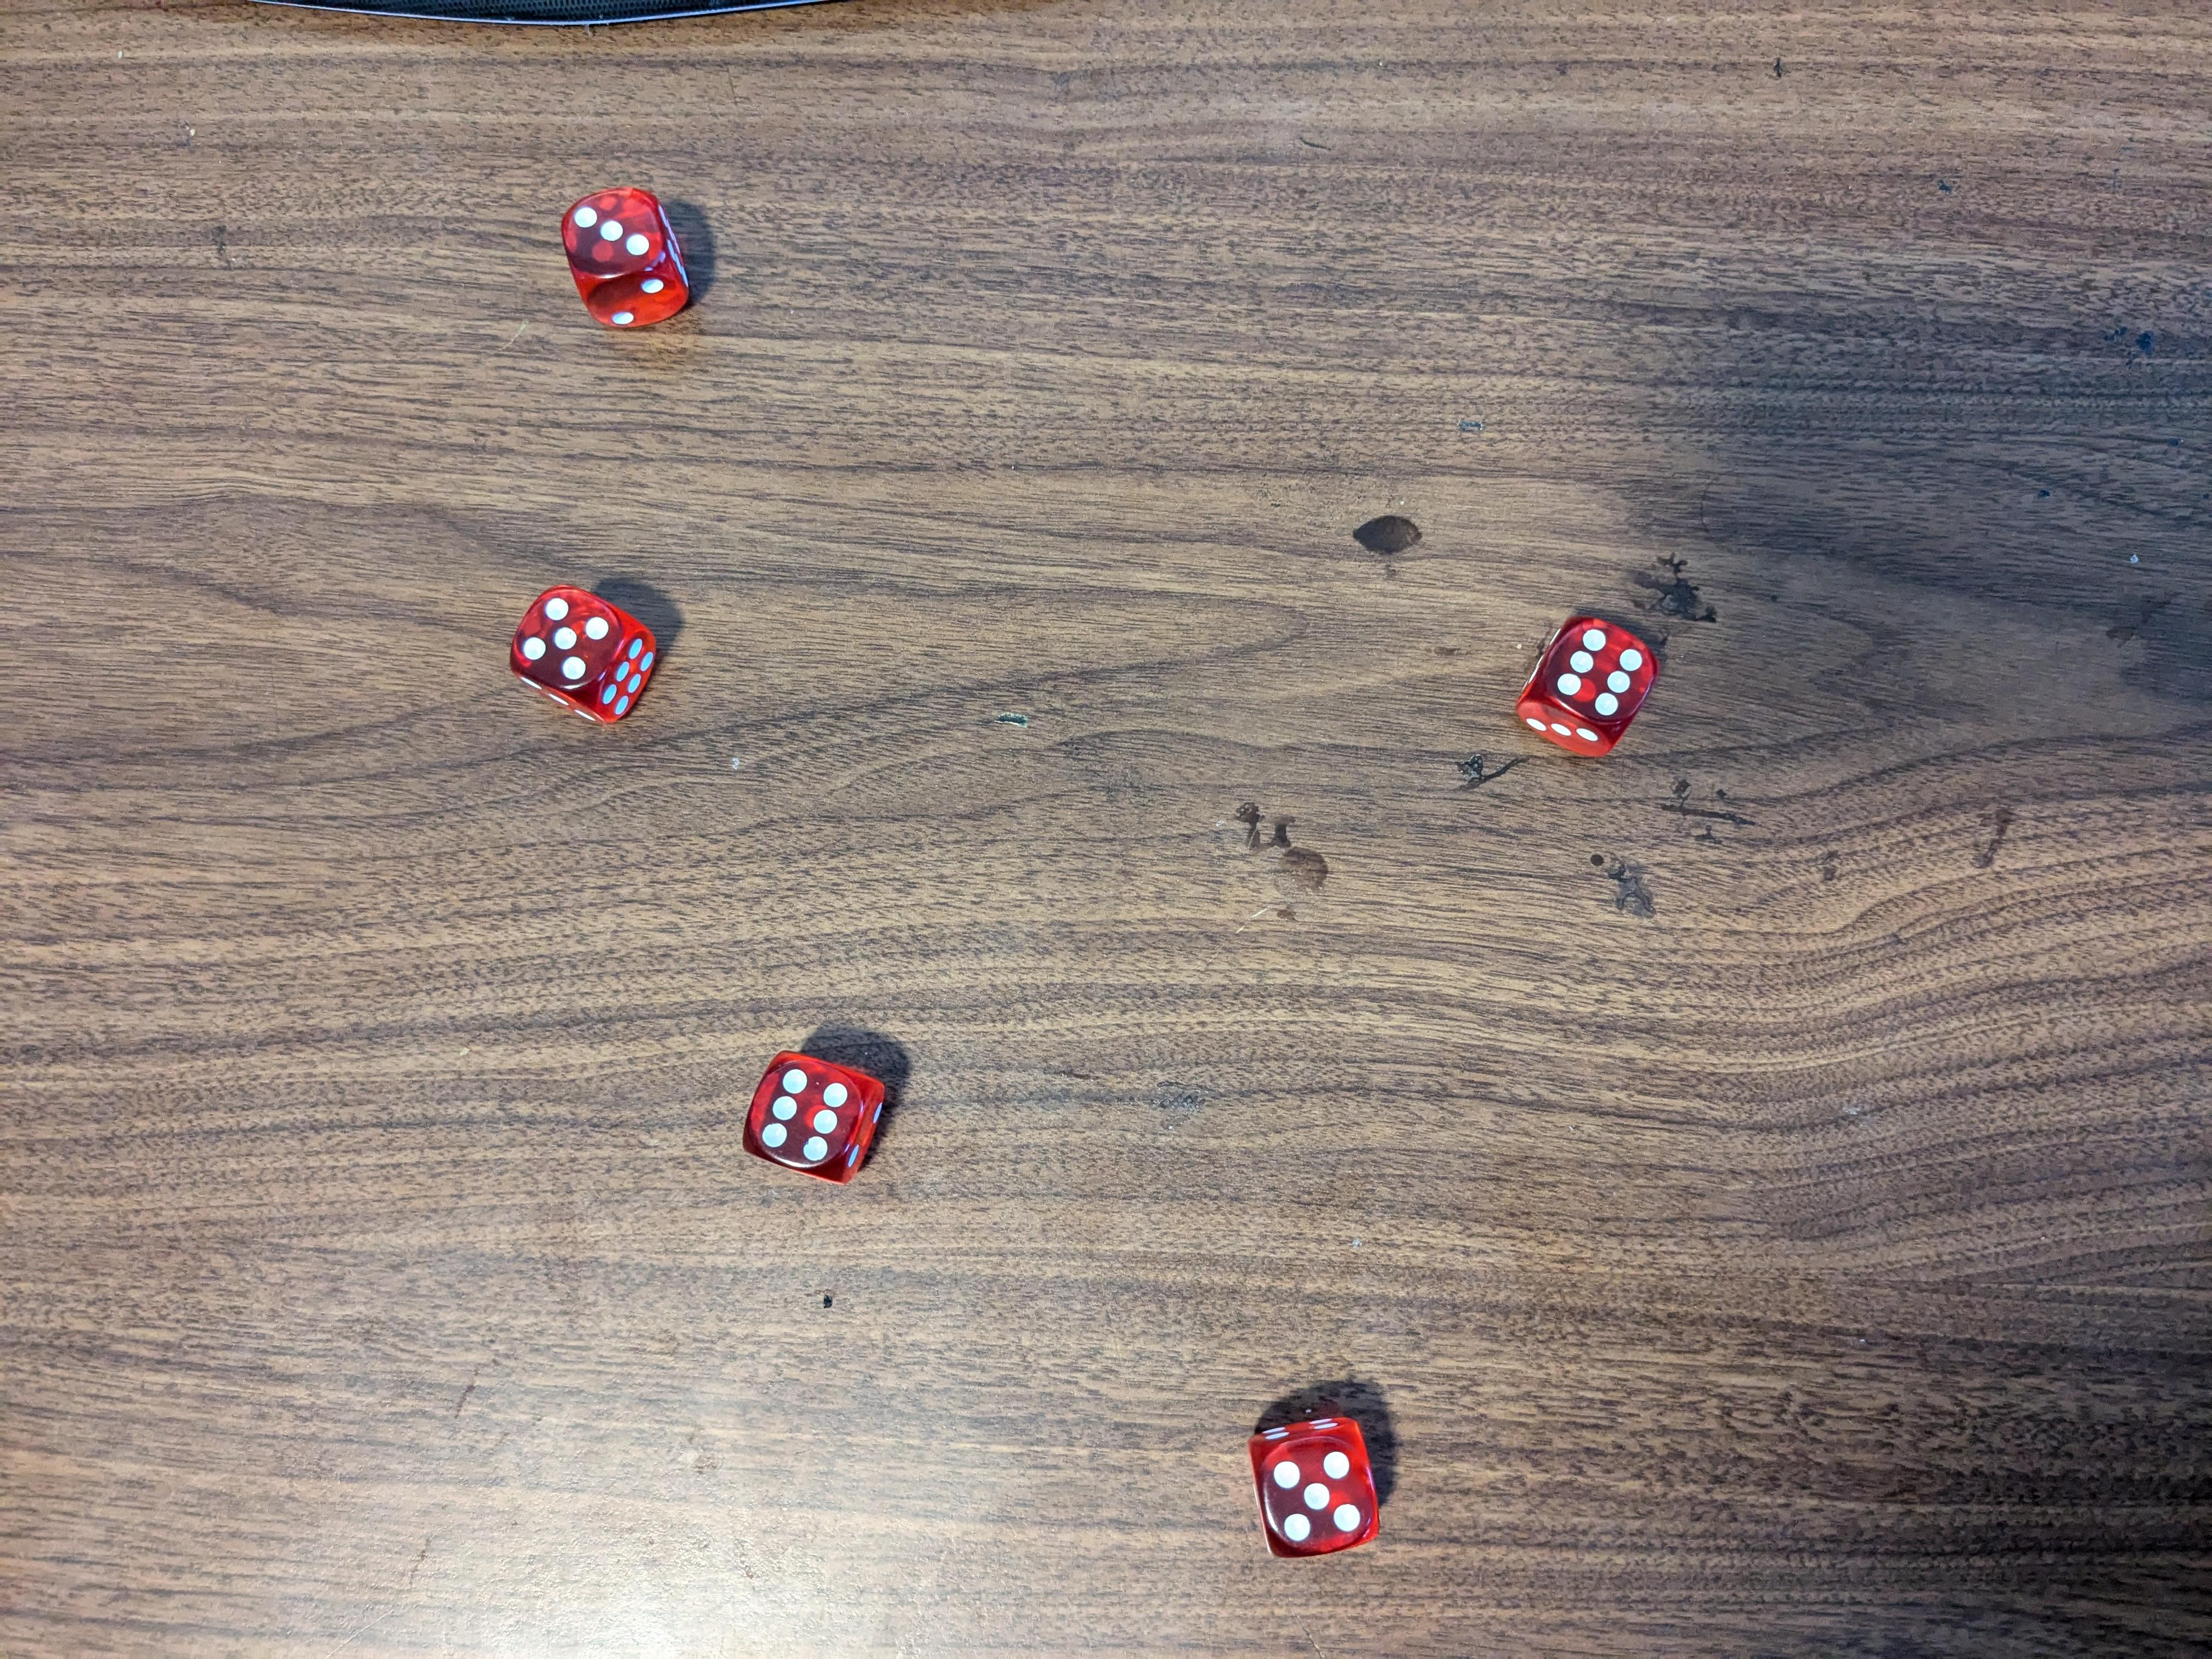five: (510, 580, 660, 725), (1245, 1408, 1383, 1561)
six: (1522, 606, 1663, 751), (740, 1053, 892, 1187)
three: (563, 188, 693, 335)
